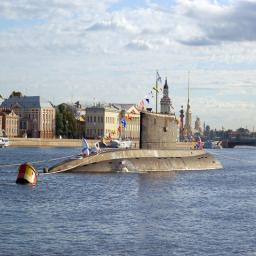submarine: (47, 67, 230, 176)
